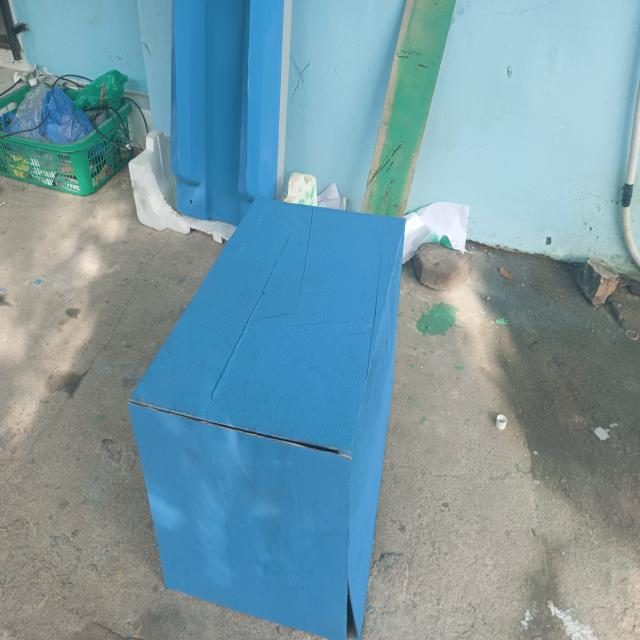blue_box: (132, 193, 410, 632)
